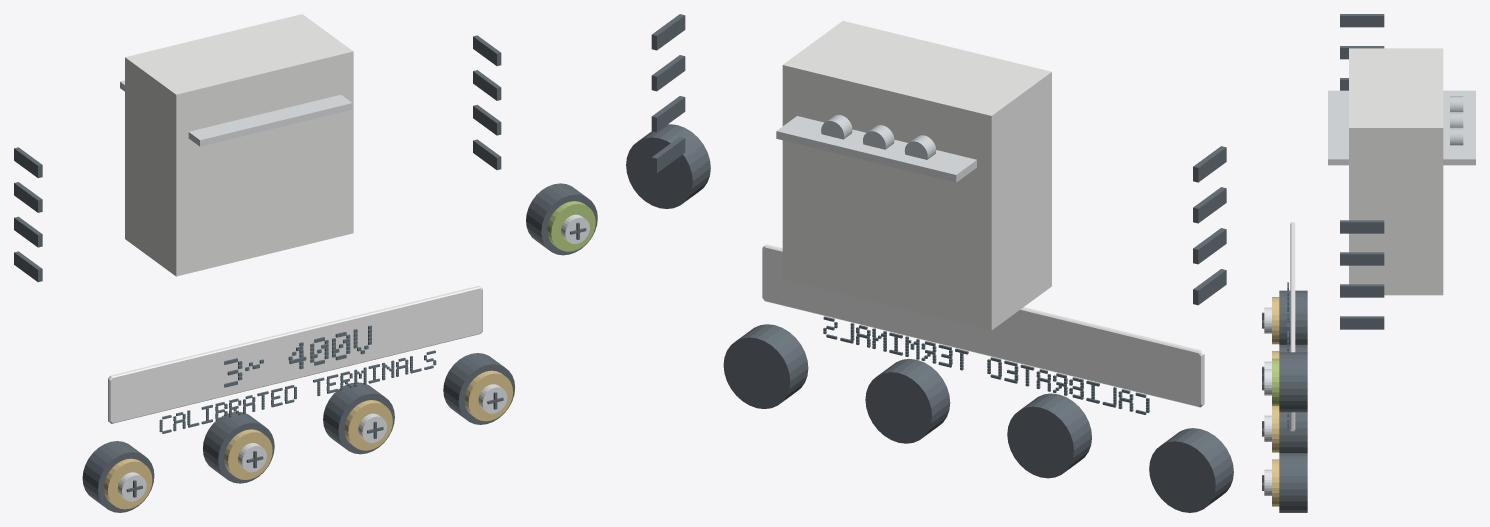
Rendered from threePhaseSupply.glb.
The picture shows the model from 3 angles, left to right: view 1: azimuth 30°, elevation 25°; view 2: azimuth 150°, elevation 25°; view 3: azimuth 270°, elevation 25°; orthographic projection. The views are drawn at different scales.
Visible parts, largest first — view 1: threePhaseSupply-detailed; view 2: threePhaseSupply-detailed; view 3: threePhaseSupply-detailed.
Boxes of the visible parts, x1,y1,x2,y2 form: threePhaseSupply-detailed: (14,14,597,512); threePhaseSupply-detailed: (626,14,1233,512); threePhaseSupply-detailed: (1262,14,1475,512).
Bounding box in the file's own units: 2.92 × 1.95 × 1.11.
